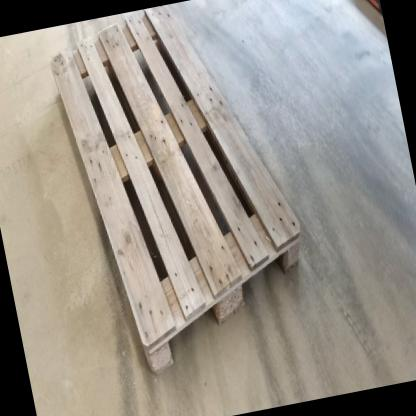BoxFace: (42, 6, 307, 381)
